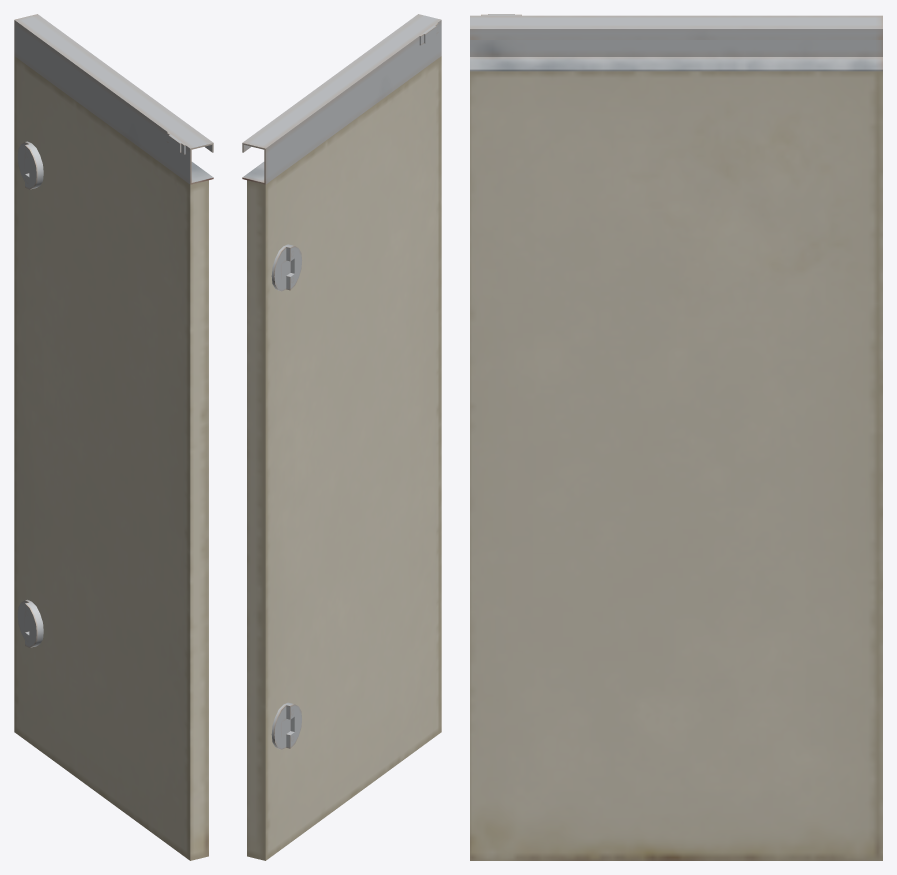
Rendered from FurnitureKicthen01_DoorDownRight01.FBX.
3 renders of one model, left to right at view 1: azimuth 30°, elevation 25°; view 2: azimuth 150°, elevation 25°; view 3: azimuth 270°, elevation 25°, orthographic. The views are drawn at different scales.
Parts seen in each view (by area): view 1: FurnitureKicthen01_DoorDownRight01; view 2: FurnitureKicthen01_DoorDownRight01; view 3: FurnitureKicthen01_DoorDownRight01.
Boxes of the visible parts, x1,y1,x2,y2 form: FurnitureKicthen01_DoorDownRight01: (14, 14, 213, 860); FurnitureKicthen01_DoorDownRight01: (242, 14, 441, 860); FurnitureKicthen01_DoorDownRight01: (470, 14, 882, 860).
Bounding box in the file's own units: 3.24 × 32.5 × 72.5.
